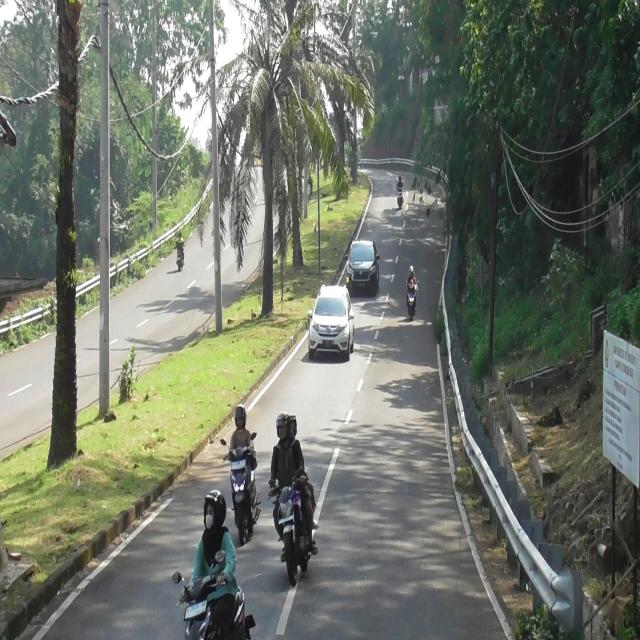motorcycle: (176, 554, 254, 640), (269, 479, 311, 581), (225, 439, 261, 545), (406, 282, 418, 319), (176, 248, 185, 272), (397, 186, 403, 209)
person: (187, 490, 236, 632), (289, 413, 317, 525), (272, 412, 305, 477), (228, 402, 254, 463), (406, 268, 418, 290), (176, 231, 184, 252), (396, 175, 404, 188), (410, 279, 415, 288)
rider_region: (179, 486, 255, 640), (270, 412, 316, 584), (226, 401, 258, 541), (404, 262, 420, 319), (392, 168, 404, 210), (175, 225, 186, 270)
